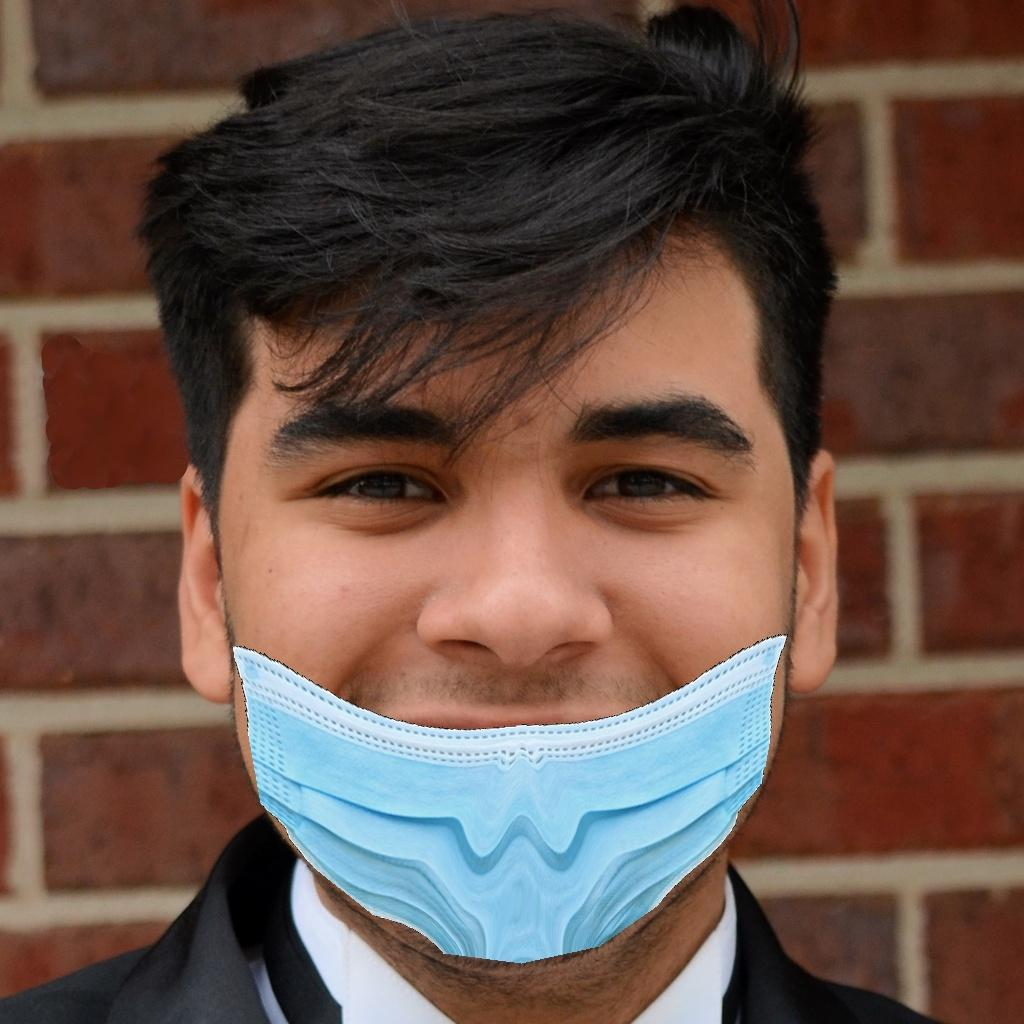Máscara Incorreta: (216, 345, 792, 939)
